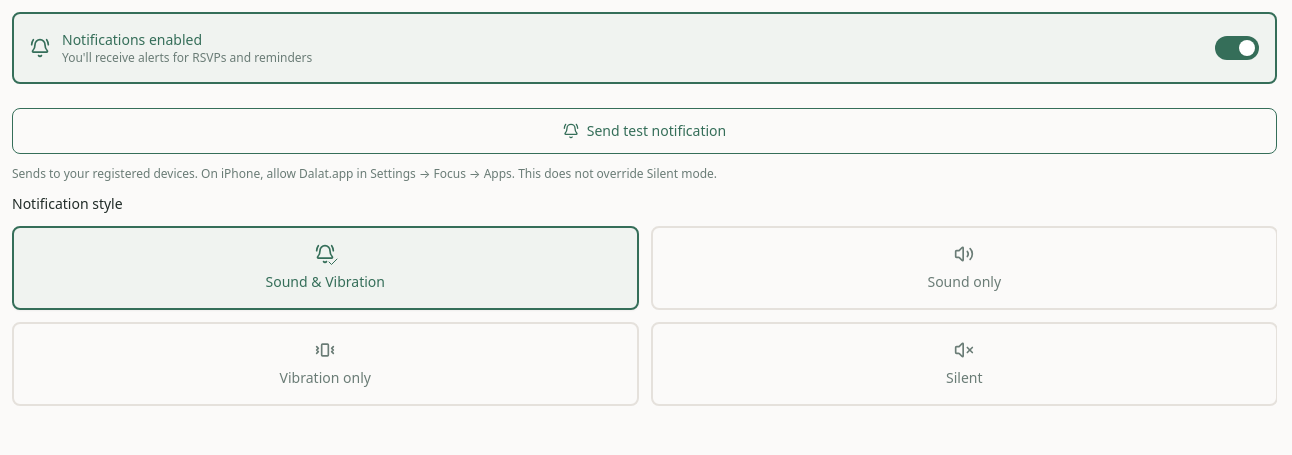
Test: shows a recovery message when no device accepts the test
Click the button "Send test notification": (644, 131) [12,108,1277,154]
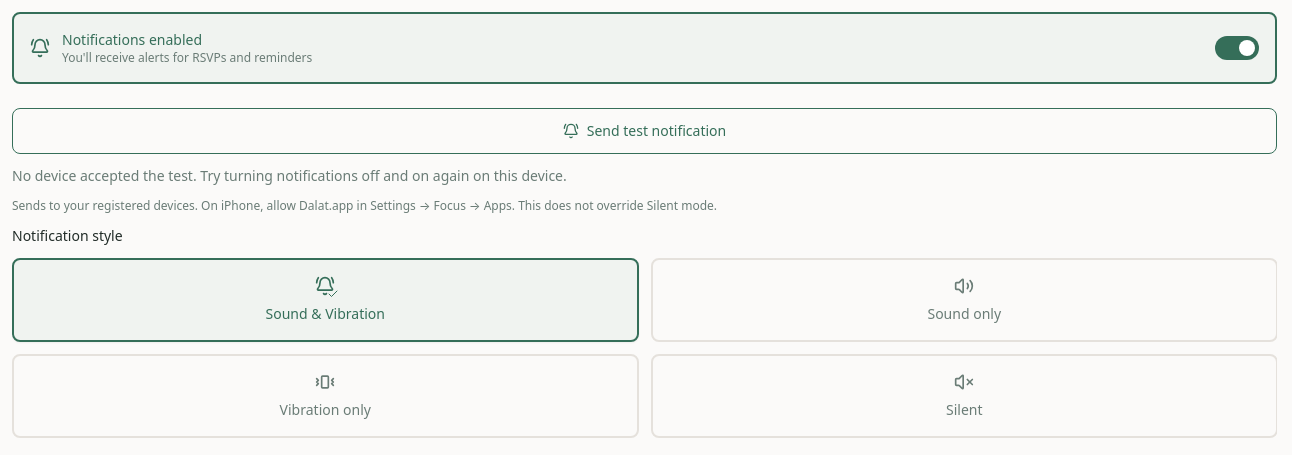
Expected: the text "No device accepted the test. Try turning notifications off and on again on this device." is shown, [12,166,567,185]
